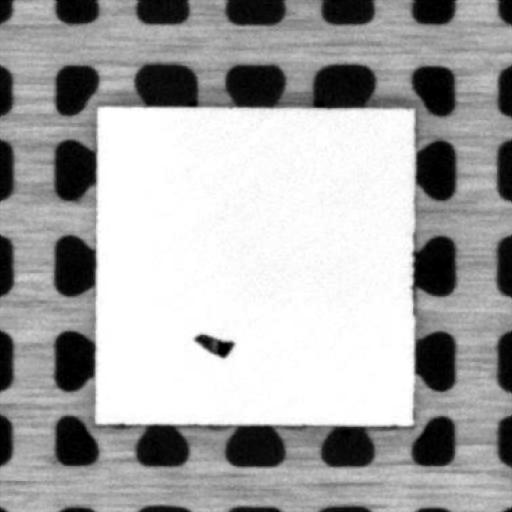DIE_INK: (192, 332, 233, 356)
